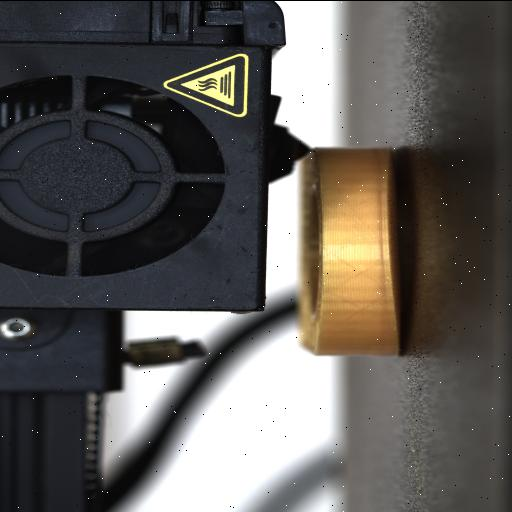warp: (380, 145, 407, 355)
